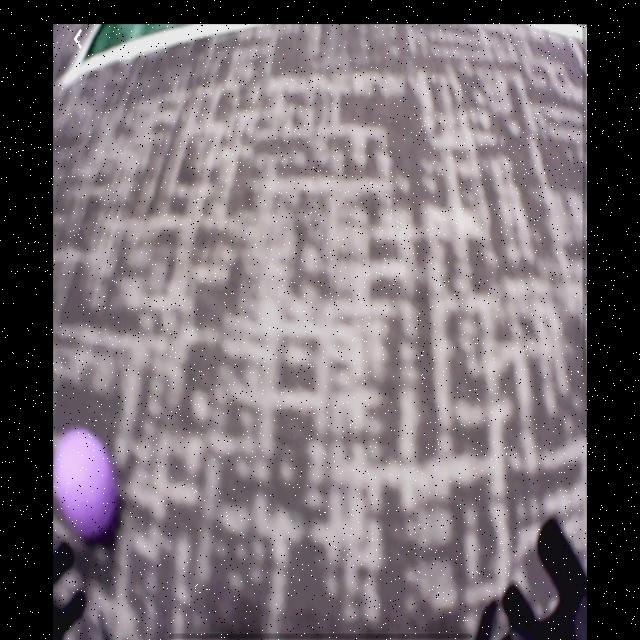ball: (54, 429, 119, 541)
